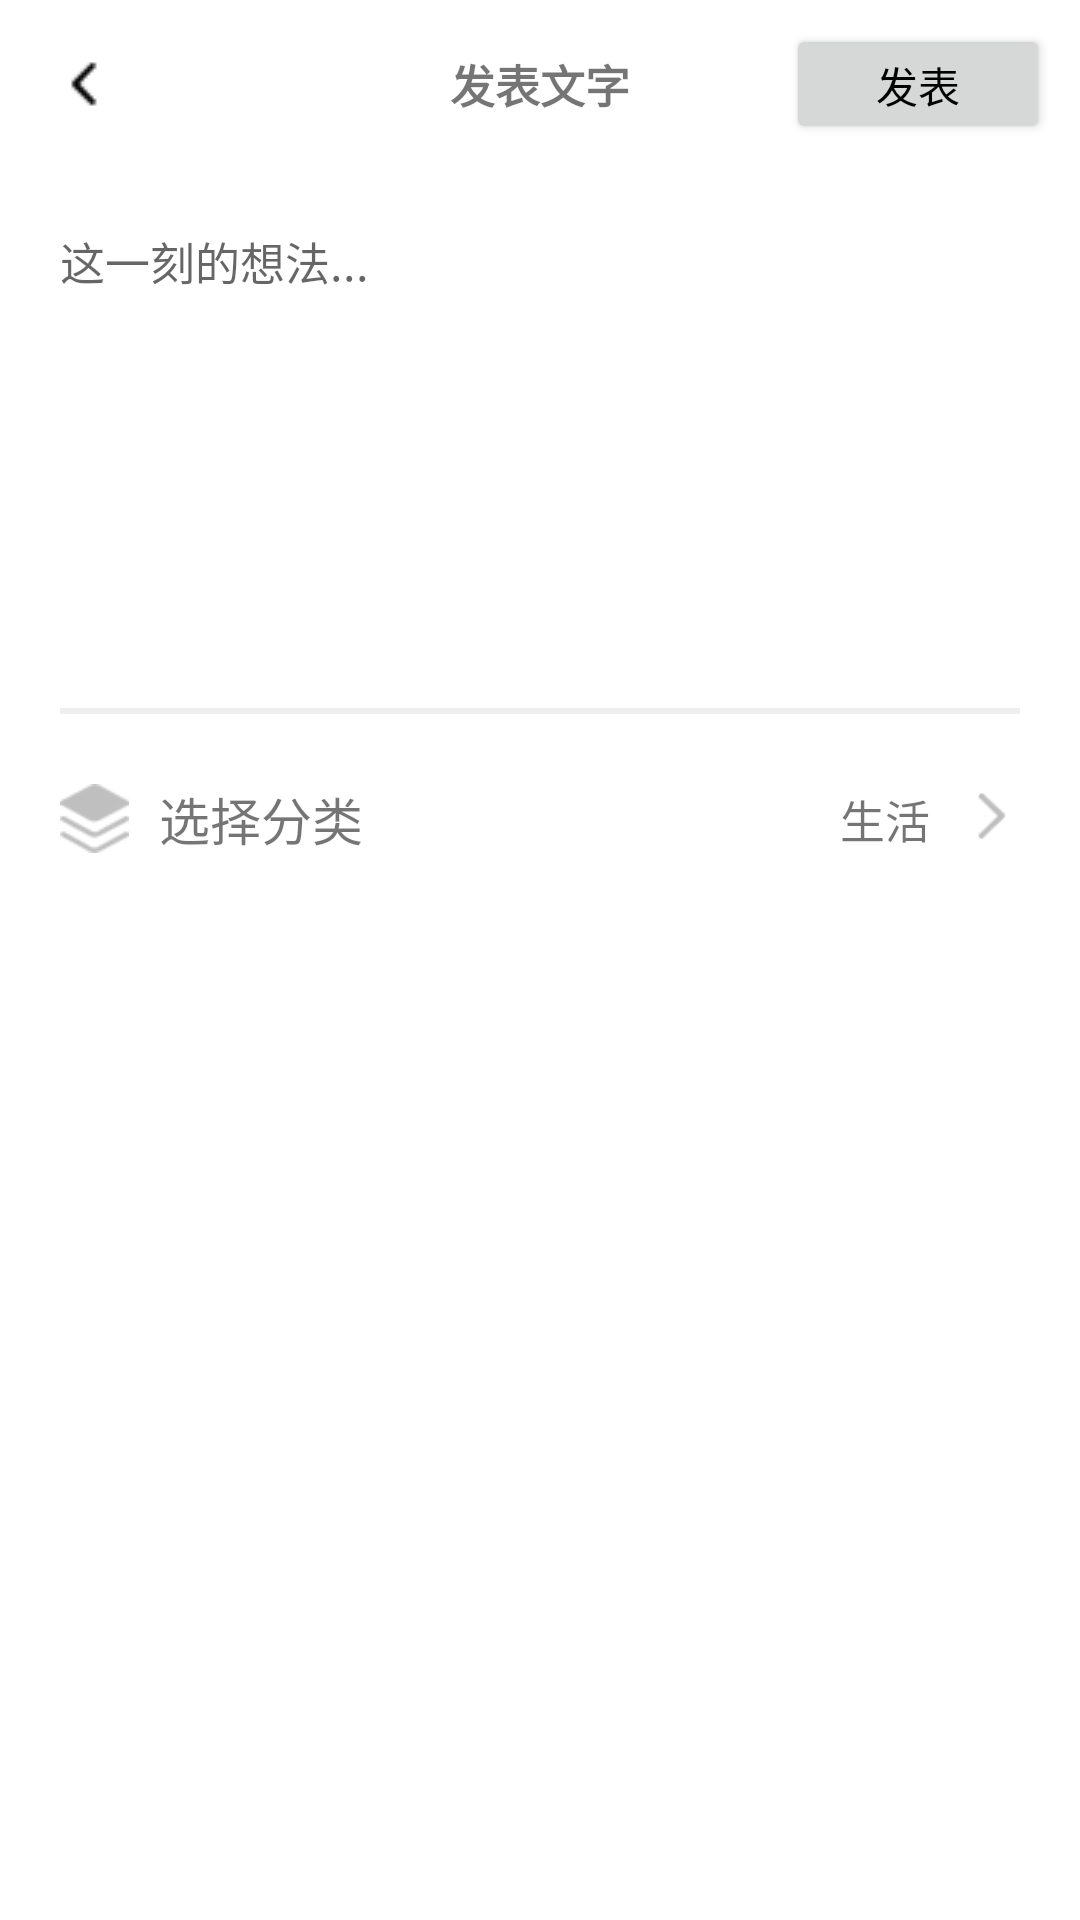

Point at icon controls on the screen. Image size 1080x1920, points as [x,y].
right: [992,816]
